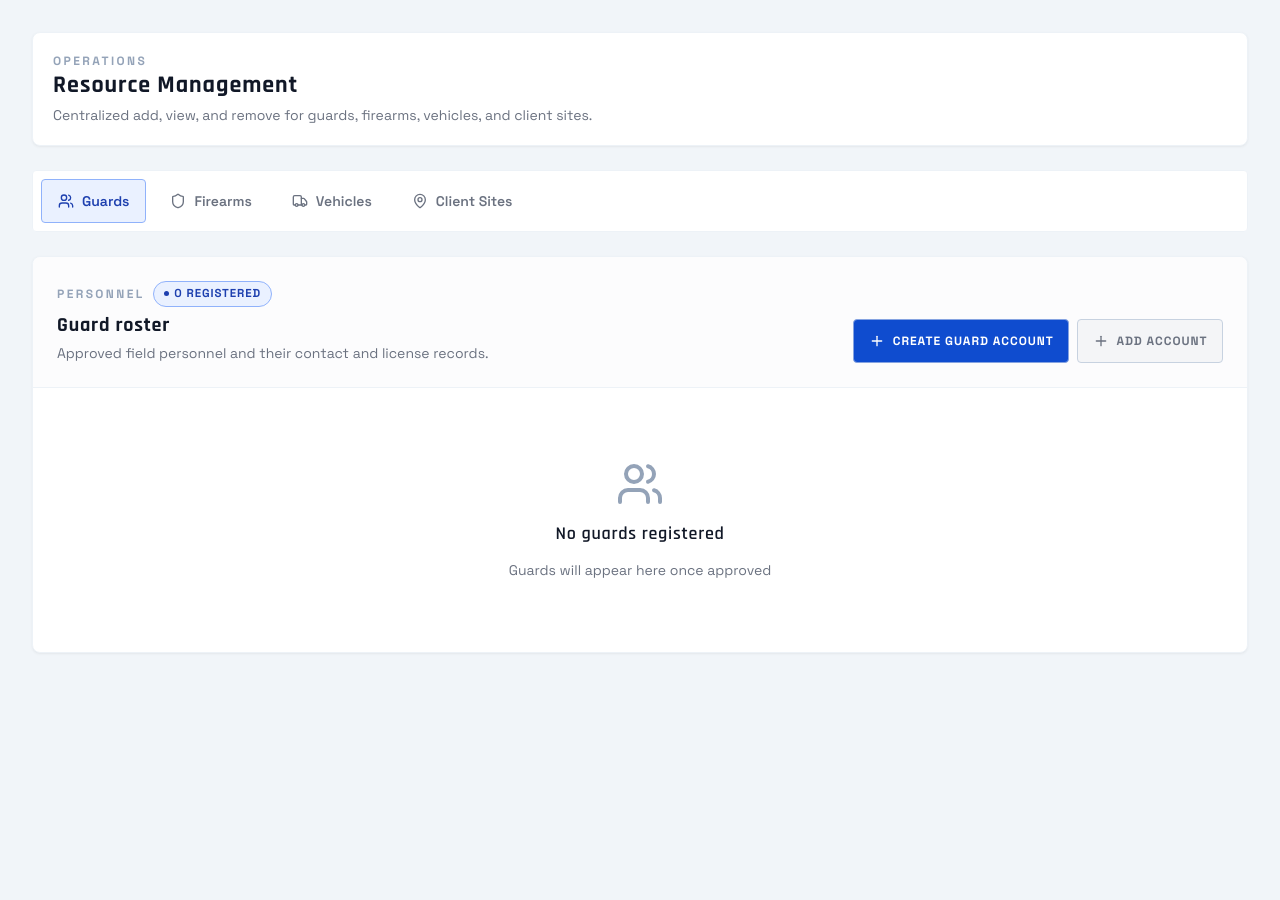
Test: ResourceManagementPanel resource editing › uses the API total and loads the next firearm page
The image size is (1280, 900).
Click the button "Firearms" at (211, 201), box [154,179,268,223]
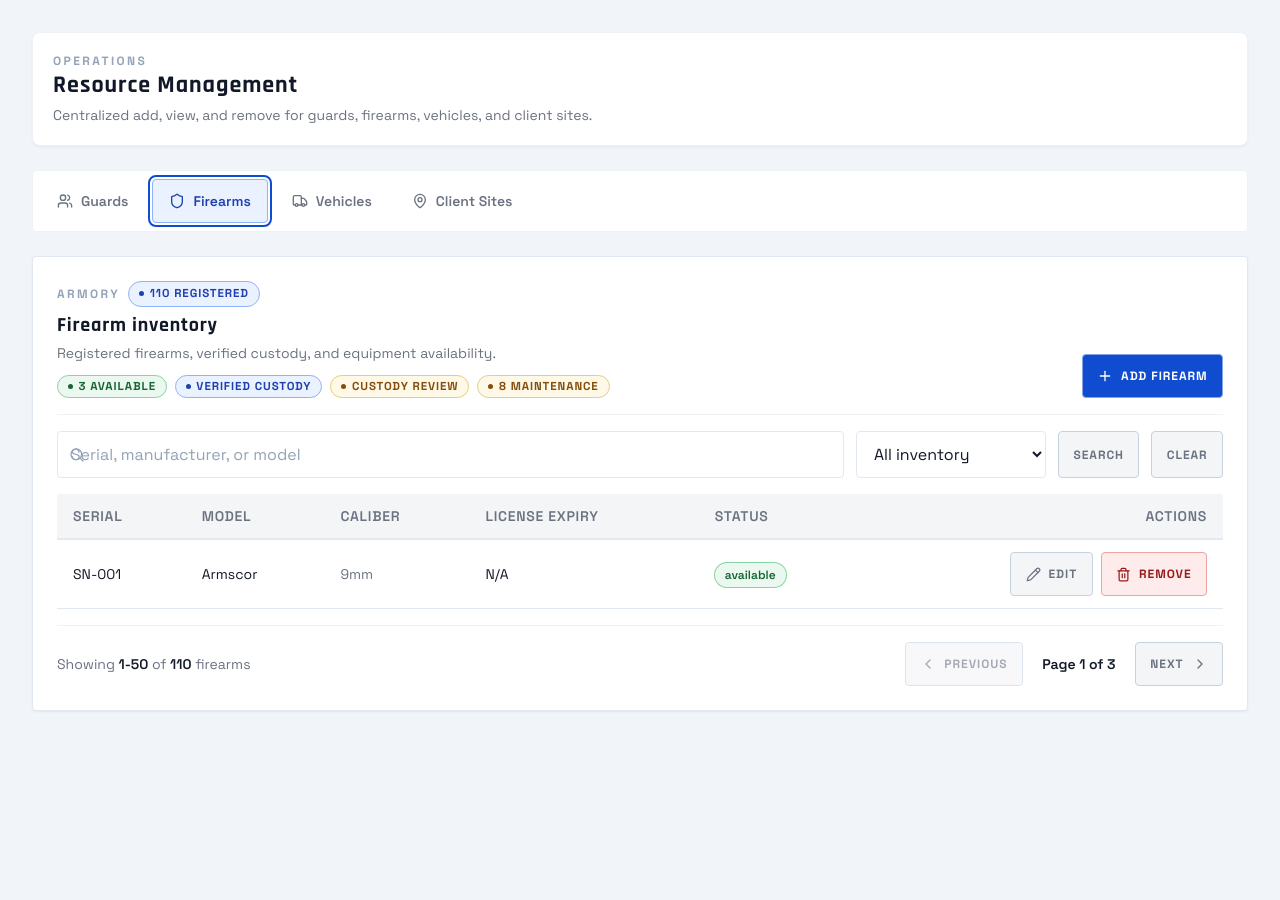
Expected: the text "SN-001" is shown, [57,539,186,609]
Expected: the text "110 registered" is shown, [128,281,260,307]
Click the button with aria-label "Next firearm page" at (1179, 664), box [1135,642,1223,686]
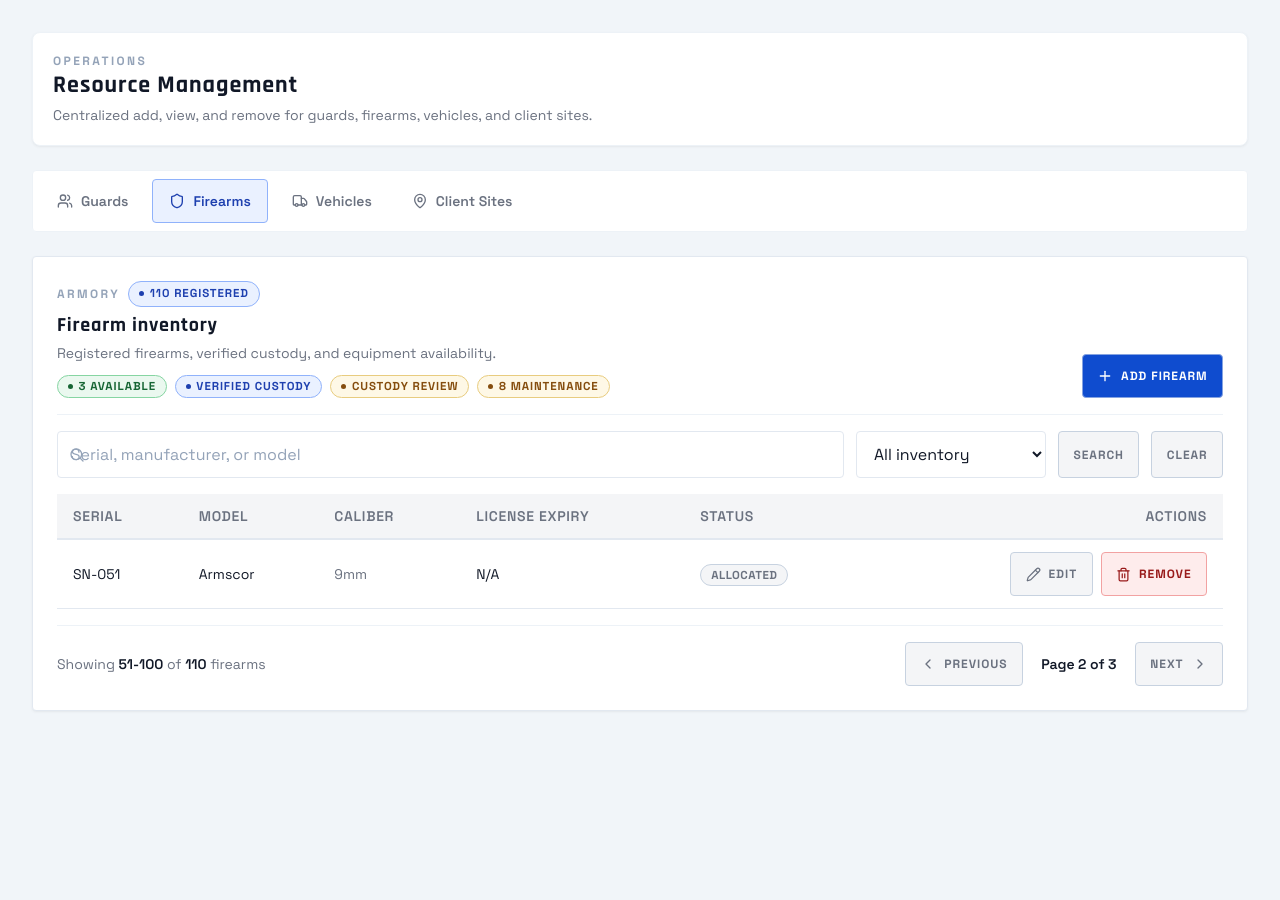
Expected: the text "SN-051" is shown, [57,539,183,609]
